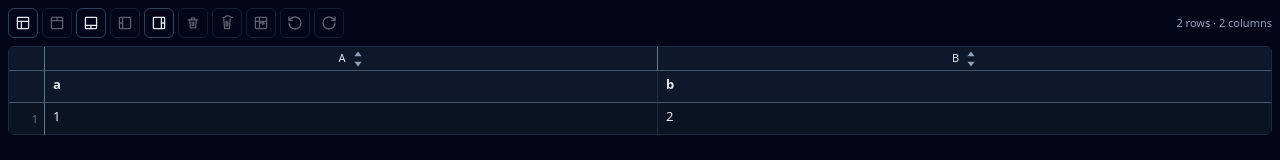
Scenario: DataGrid (reusable grid) › Delete columns is disabled without a column selection and deletes a column when one is selected
Expected: the button named "Delete columns" is disabled, [212,8,242,38]
Press the mouse on the column heading "B": (965, 59) [658,47,1272,71]
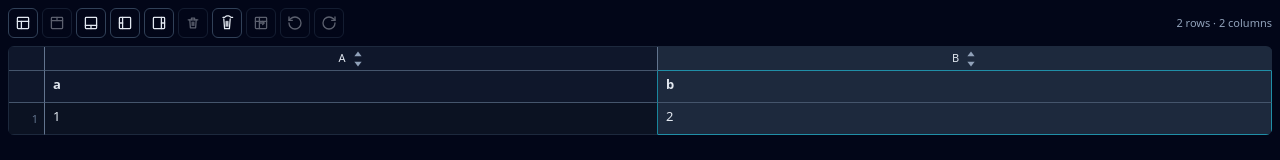
Expected: the button named "Delete columns" is enabled
Click the button named "Delete columns": (227, 23) [212,8,242,38]
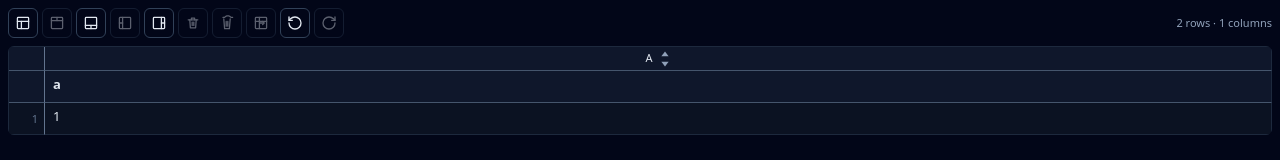
Expected: the element with test id "data-grid" shows "2 rows · 1 columns", [1176,15,1272,30]
